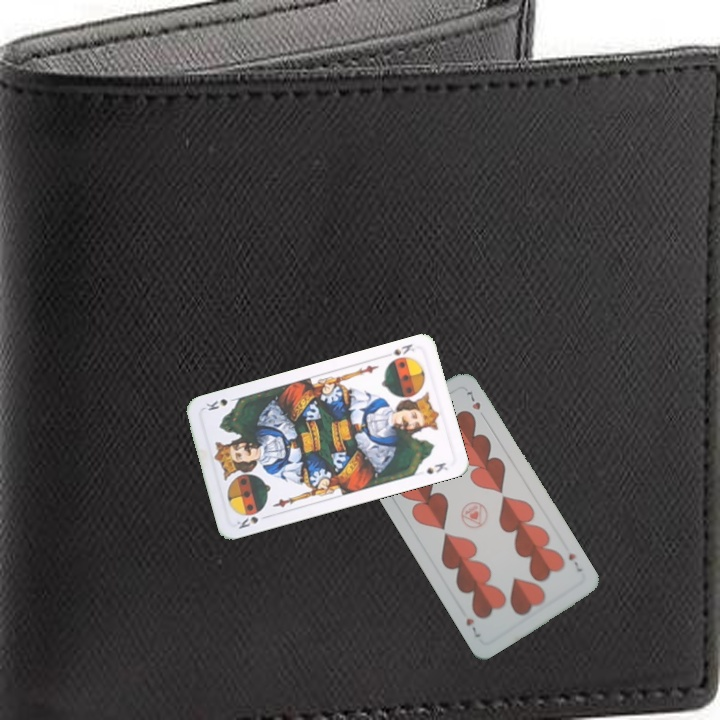H7: (564, 549, 585, 574)
SK: (232, 511, 272, 531), (389, 340, 417, 358)
